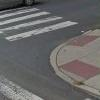Crosswalk: (1, 10, 74, 54)
